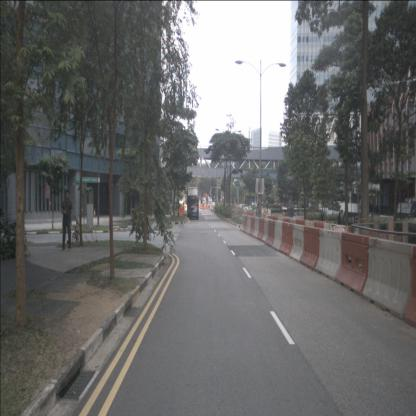human-pedestrian-adult: (60, 189, 73, 252), (320, 209, 325, 231), (338, 212, 342, 235)
movable_object-barrier: (361, 236, 413, 322), (335, 232, 370, 297), (314, 229, 342, 282), (300, 226, 320, 272), (289, 223, 304, 264), (339, 225, 355, 261), (279, 222, 294, 256), (323, 223, 338, 252), (312, 221, 324, 255), (272, 220, 282, 252), (265, 218, 275, 248), (304, 221, 314, 250), (296, 219, 304, 249), (261, 218, 269, 243), (268, 216, 277, 237), (282, 218, 290, 241), (293, 216, 305, 231), (289, 218, 296, 243), (277, 216, 284, 240), (257, 218, 264, 241), (253, 216, 259, 238), (249, 216, 255, 236), (242, 215, 248, 233), (246, 215, 251, 235), (240, 214, 245, 232), (200, 204, 207, 211)
movable_object-trafficcone: (94, 208, 96, 218)
vehicle-bicycle: (72, 215, 82, 245)
vehicle-bus-rigid: (187, 186, 199, 218)
vehicle-car: (189, 206, 199, 220), (207, 199, 213, 208)
